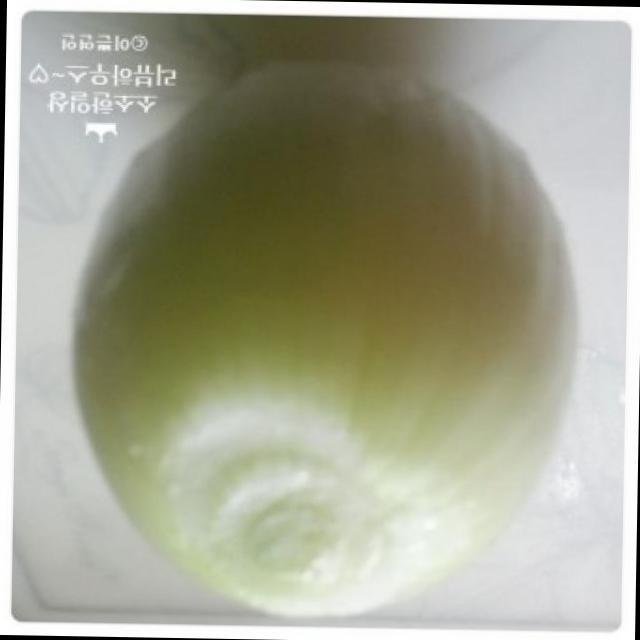Onion: (74, 59, 579, 611)
